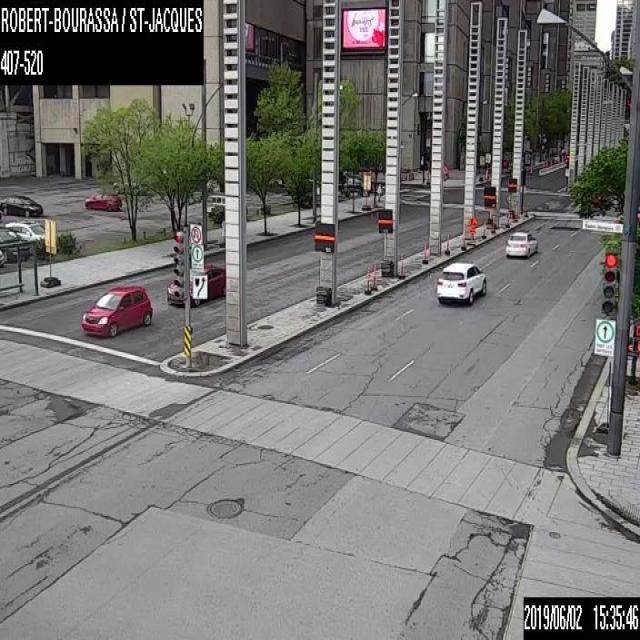construction: (466, 215, 479, 240), (491, 216, 497, 231), (400, 260, 404, 275), (423, 241, 426, 260), (524, 203, 528, 216), (372, 272, 375, 288), (366, 274, 369, 290), (446, 236, 449, 251), (483, 223, 486, 236), (461, 233, 464, 246), (514, 208, 517, 220), (506, 212, 509, 224)
vehicle: (78, 282, 152, 338), (168, 260, 225, 305), (434, 259, 487, 305), (5, 219, 58, 250), (0, 226, 30, 262), (504, 228, 539, 256), (0, 195, 42, 217), (83, 190, 122, 211), (342, 174, 374, 196)
